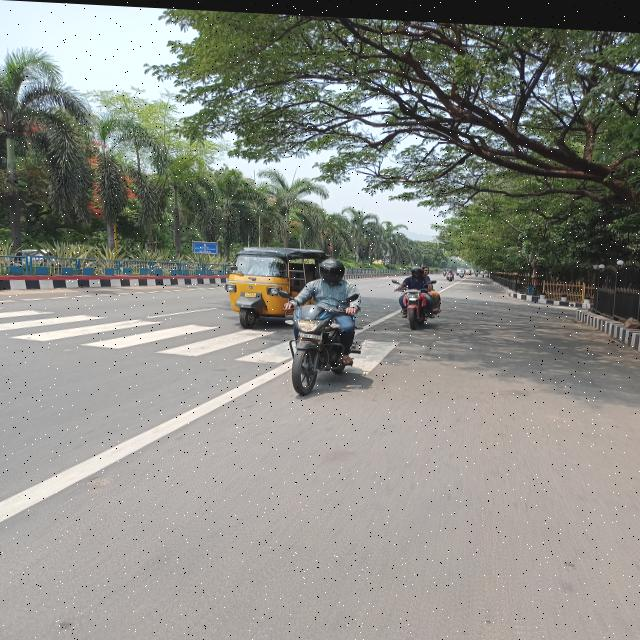bike: (277, 295, 377, 392), (393, 283, 450, 328)
